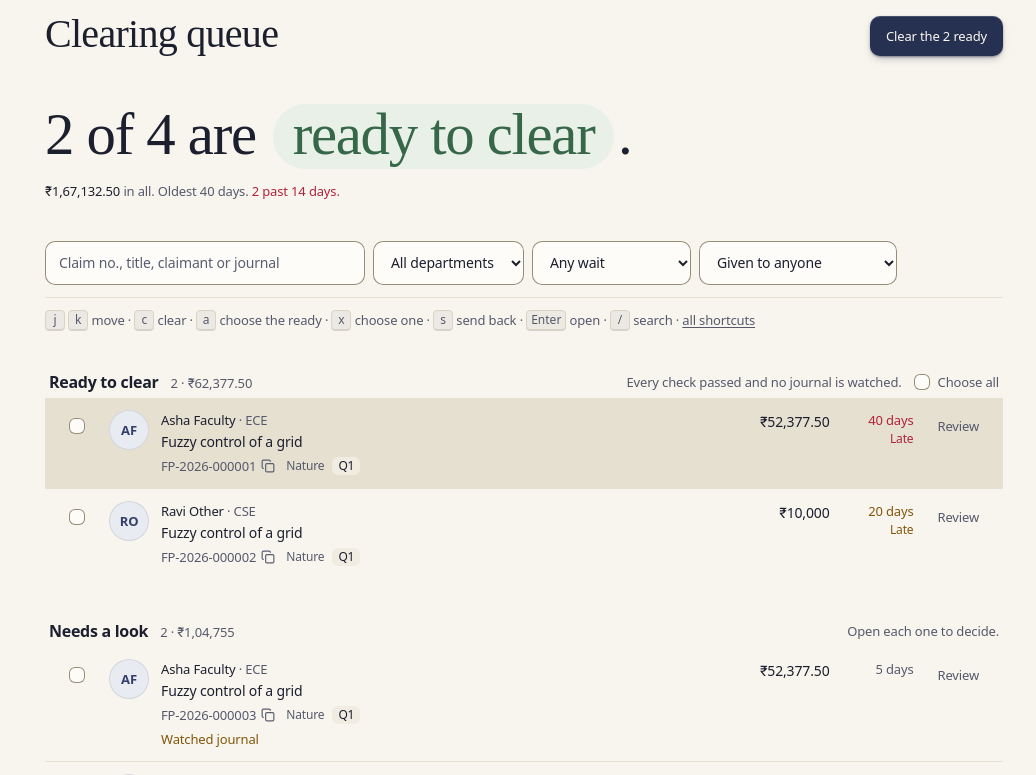
Test: the clearing queue › writes what is typed to the address, and finds a claim number however it is typed
Expected: the element "Ready to clear" is shown, 45,370 -> 1003,579
Type "fp 2026 3" into the field named "Search the queue" at (205, 263), box 45,241 -> 365,285
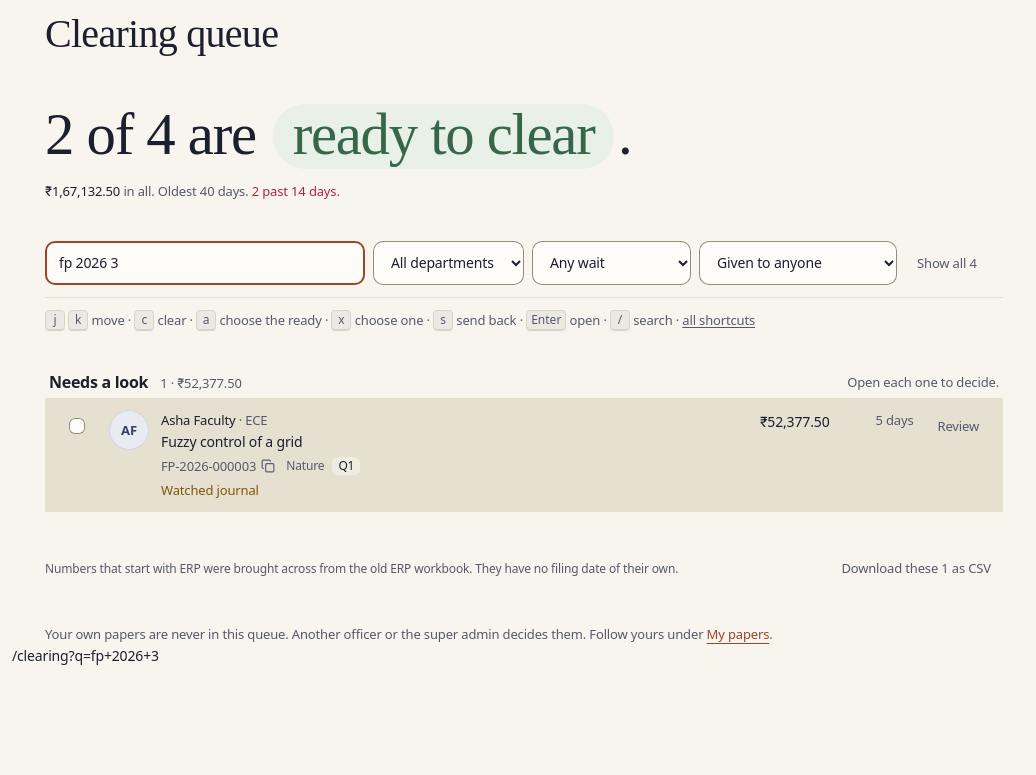
Expected: the text "FP-2026-000003" is shown, 161,456 -> 256,476
Expected: the text with test id "where" shows "q=", 12,646 -> 159,665
Expected: the text "FP-2026-000001" is gone
